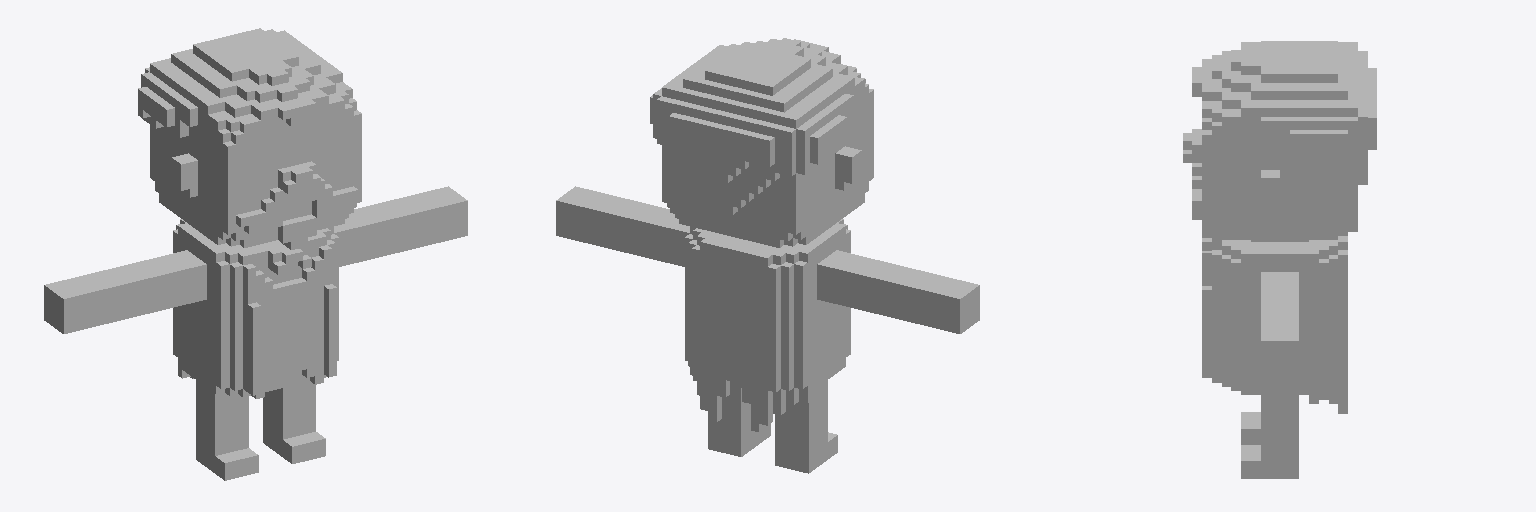
Rendered from Char_Male.obj.
The picture shows the model from 3 angles: view 1: azimuth 30°, elevation 25°; view 2: azimuth 150°, elevation 25°; view 3: azimuth 270°, elevation 25°; orthographic projection.
Visible parts, largest first — view 1: Char_Male; view 2: Char_Male; view 3: Char_Male.
Part boxes in pixels (x1,y1,x2,y2): Char_Male: (44, 28, 467, 480); Char_Male: (556, 38, 979, 473); Char_Male: (1183, 41, 1376, 478).
Bounding box in the file's own units: 1.97 × 1.84 × 0.82.